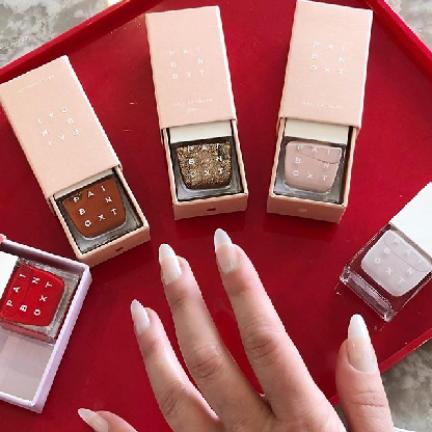Nail: (347, 314, 378, 373), (213, 229, 237, 274), (159, 244, 181, 284), (78, 408, 109, 432), (131, 300, 150, 336)
